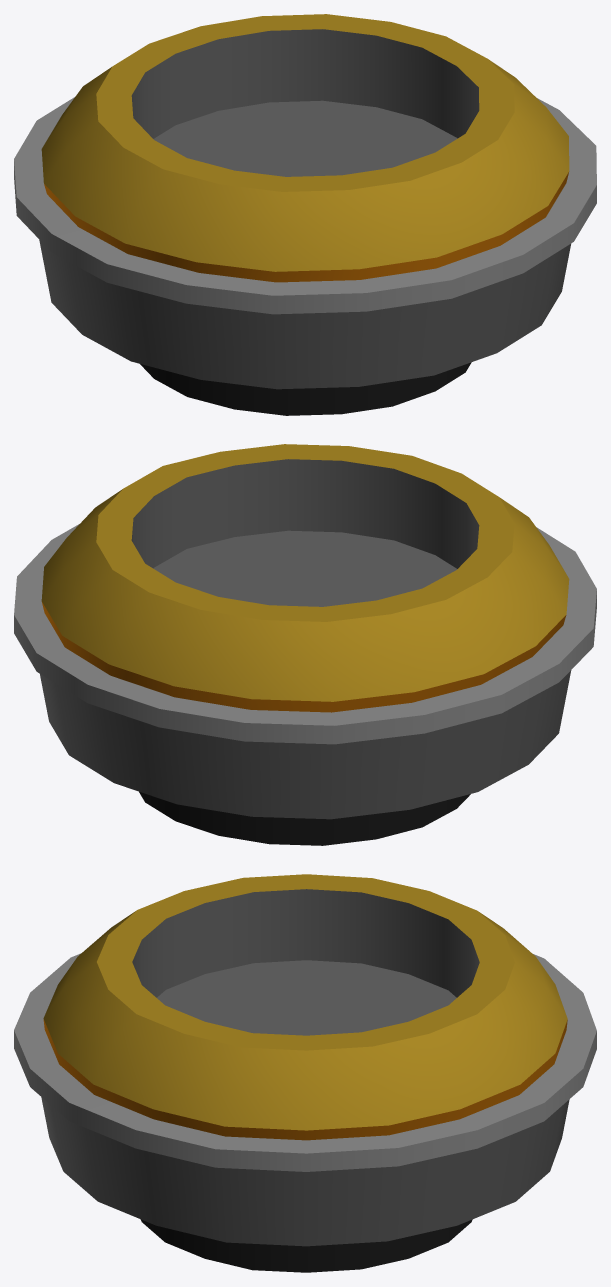
File: SM_Element_Yellow.fbx
3 renders of one model, top to bottom at view 1: azimuth 30°, elevation 25°; view 2: azimuth 150°, elevation 25°; view 3: azimuth 270°, elevation 25°, orthographic.
Parts seen in each view (by area): view 1: SM_Element_Yellow; view 2: SM_Element_Yellow; view 3: SM_Element_Yellow.
Part boxes in pixels (x1,y1,x2,y2): SM_Element_Yellow: (14, 14, 596, 415); SM_Element_Yellow: (14, 444, 596, 845); SM_Element_Yellow: (14, 874, 596, 1272).
Size of the model in its own units: 93.07 by 41.85 by 93.28.
